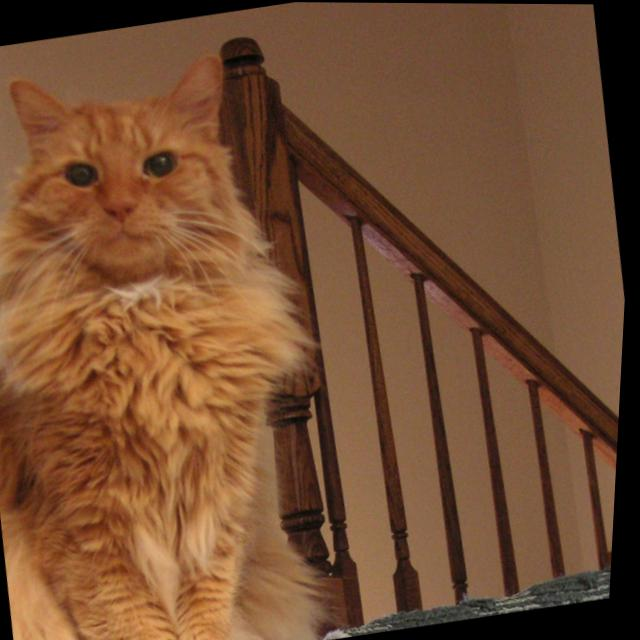animals: (9, 48, 238, 232)
